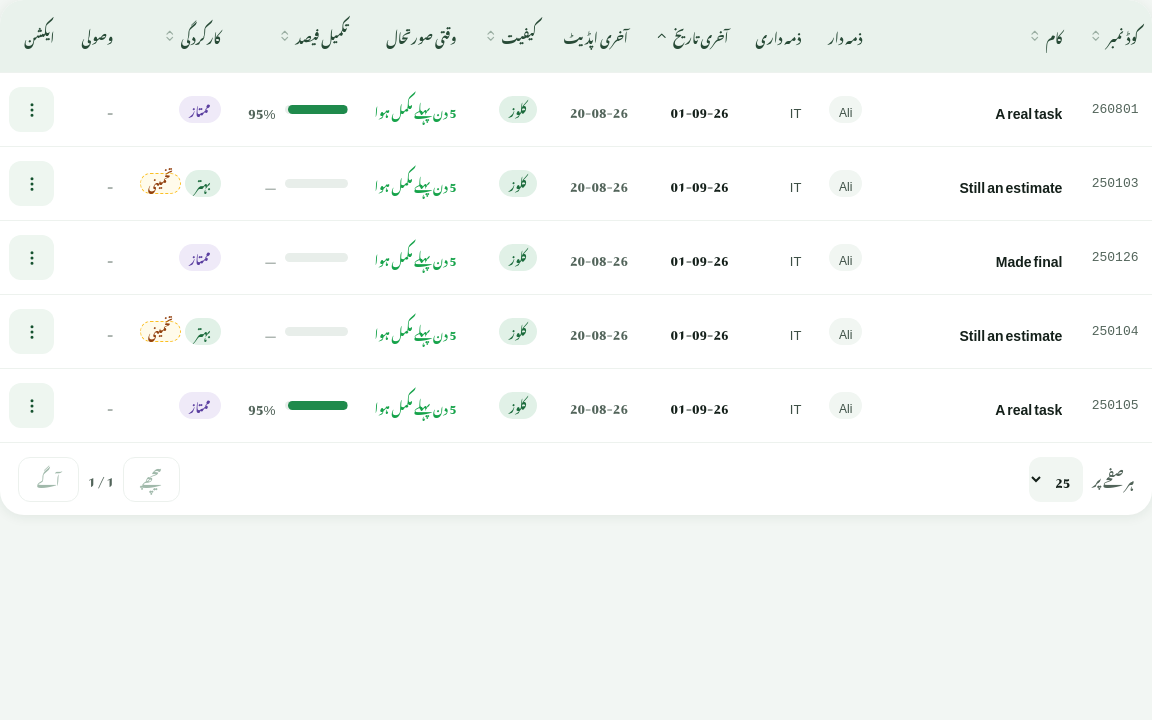
Test: the "تخمینی درجہ بندی تبدیل کریں" action › desktop menu: not offered on 260801 (a real rating / a replaced estimate)
Click the button named "اقدامات" in the row of "260801" at (32,110), box [9,87,54,132]
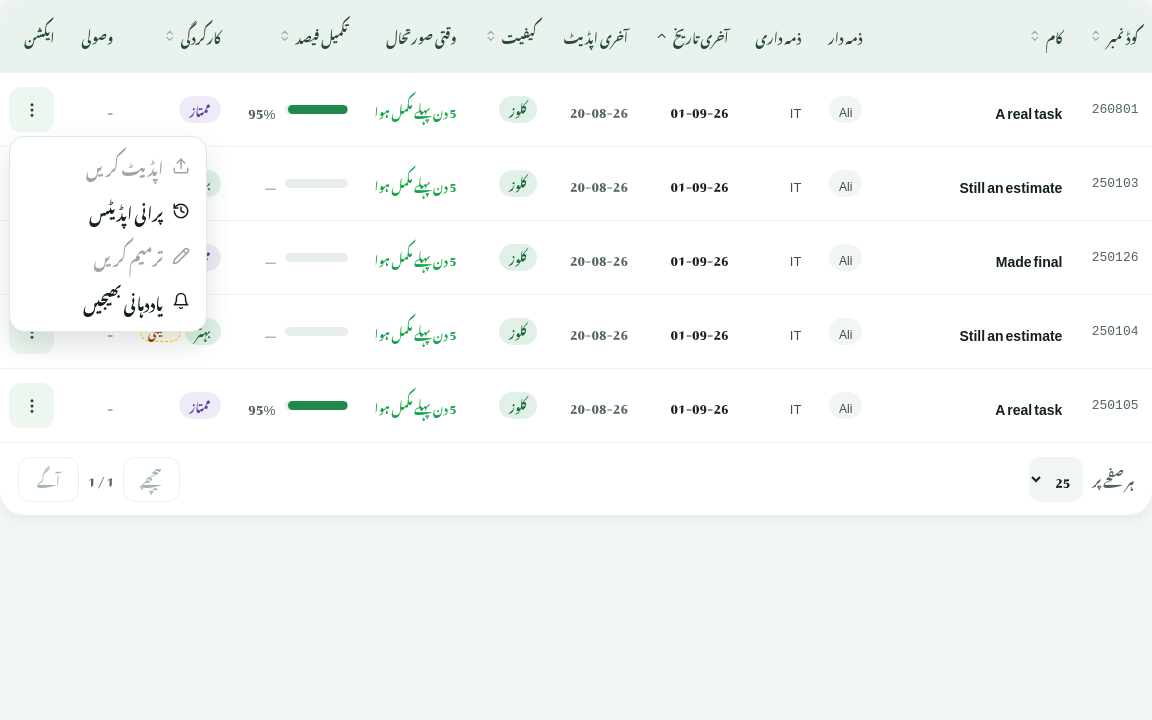
Now the button "پرانی اپڈیٹس" is shown, box [17,189,199,234]
